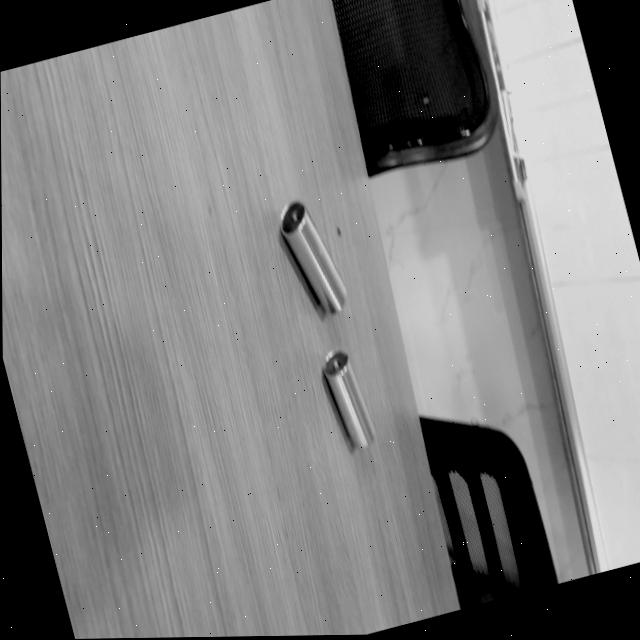Co_Lon: (270, 197, 354, 317)
Co_Nho: (317, 346, 380, 450)
